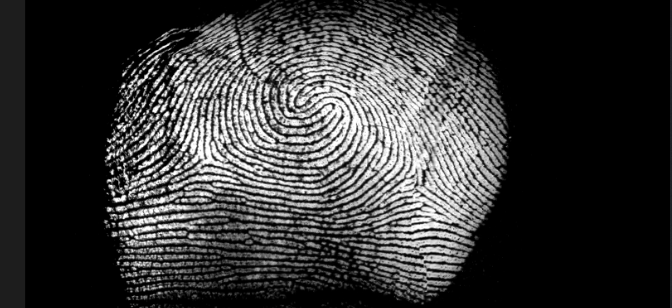deltas: (387, 160, 446, 208), (184, 132, 234, 178)
nucleo: (270, 72, 343, 125)
